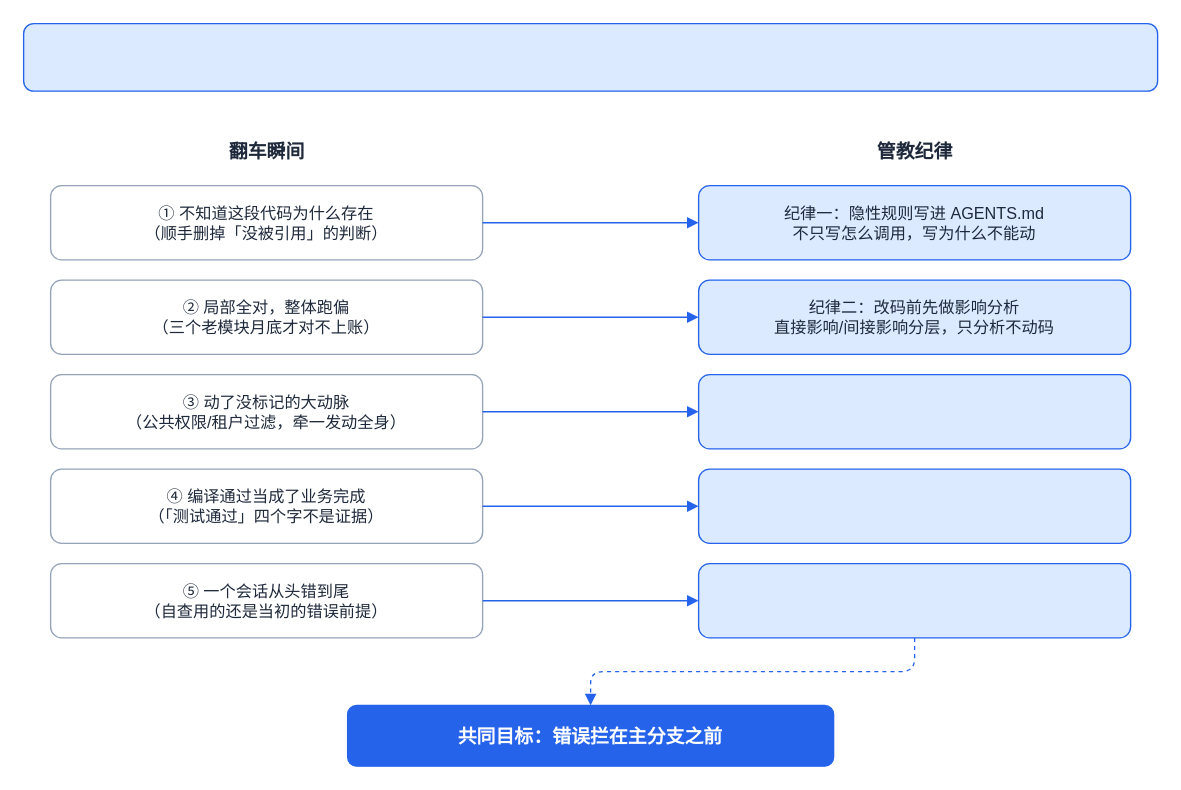
Image size: 1181x790. Some labels were removed from this diagram. The shapes that lost their labels are listed below. From the top down, each one's box as (x1, y1, x2, y2) in pixels, then its label:
(22, 22, 1158, 91): 静默翻车：代码能运行，编译能通过，测试挑不出毛病，系统已经和业务对不上号
(697, 373, 1131, 449): 纪律三：高风险区标记 + 四问 为什么改/谁在调用/替代方案/回归什么
(697, 468, 1131, 543): 纪律四：三层测试 + 留证四件套 输入/期望/实际/失败日志
(697, 562, 1131, 638): 纪律五：分析/实现/审查三会话分离 审查会话用全新上下文
